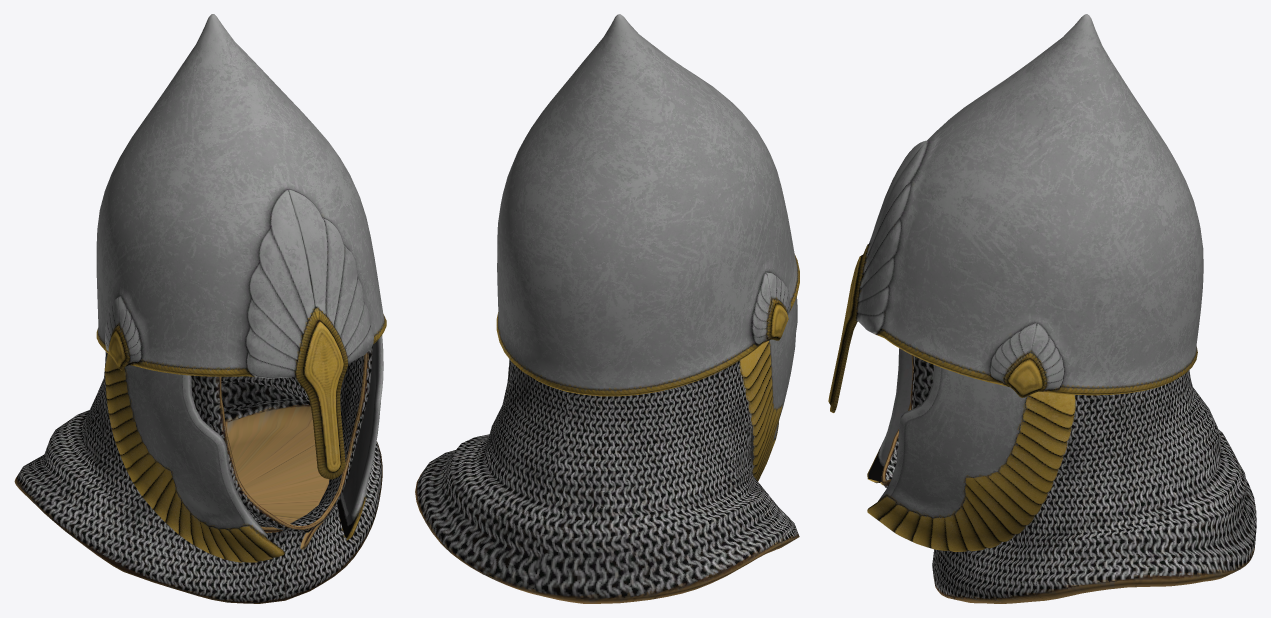
Rendered from pelargirmarine_helmet_5_a_coif.fbx.
The picture shows the model from 3 angles, left to right: view 1: azimuth 30°, elevation 25°; view 2: azimuth 150°, elevation 25°; view 3: azimuth 270°, elevation 25°; orthographic projection. The views are drawn at different scales.
Parts seen in each view (by area): view 1: pelargirmarine_helmet_5_a_coif.0, pelargirmarine_helmet_5_a_coif.1; view 2: pelargirmarine_helmet_5_a_coif.0, pelargirmarine_helmet_5_a_coif.1; view 3: pelargirmarine_helmet_5_a_coif.0, pelargirmarine_helmet_5_a_coif.1.
Boxes of the visible parts, left/top/right/bottom form: pelargirmarine_helmet_5_a_coif.0: left=96, top=14, right=386, bottom=479; pelargirmarine_helmet_5_a_coif.1: left=14, top=335, right=383, bottom=603; pelargirmarine_helmet_5_a_coif.0: left=496, top=14, right=799, bottom=396; pelargirmarine_helmet_5_a_coif.1: left=415, top=296, right=799, bottom=603; pelargirmarine_helmet_5_a_coif.0: left=828, top=14, right=1203, bottom=412; pelargirmarine_helmet_5_a_coif.1: left=867, top=348, right=1256, bottom=603.
Size of the model in its own units: 0.2905 by 0.3082 by 0.4511.
2 materials, 2 textured.
